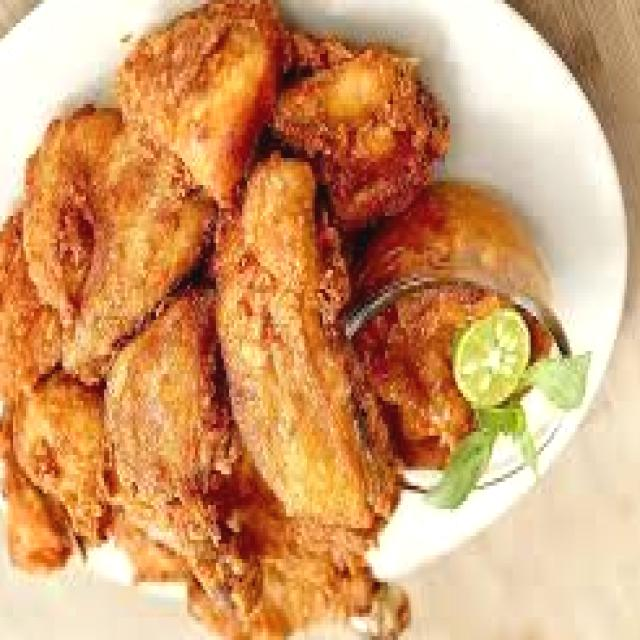ayam_goreng: (0, 0, 473, 640), (234, 218, 370, 550), (105, 315, 260, 592), (31, 130, 187, 374)
